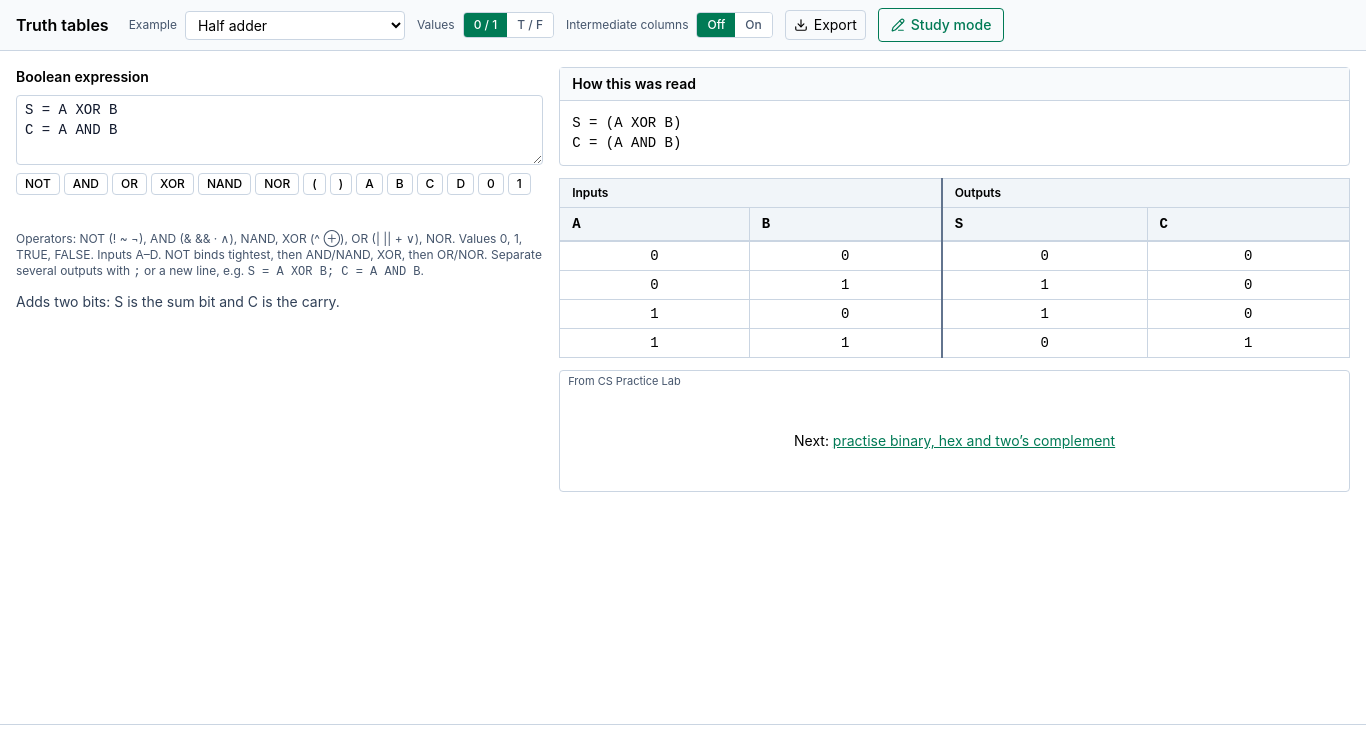
Truth Table Study Mode › grades a right and a wrong answer, and the feedback never contains the answer
The width and height of the screenshot is (1366, 753).
Click the button "Study mode" at (941, 25), box x1=878 y1=8 x2=1004 y2=42
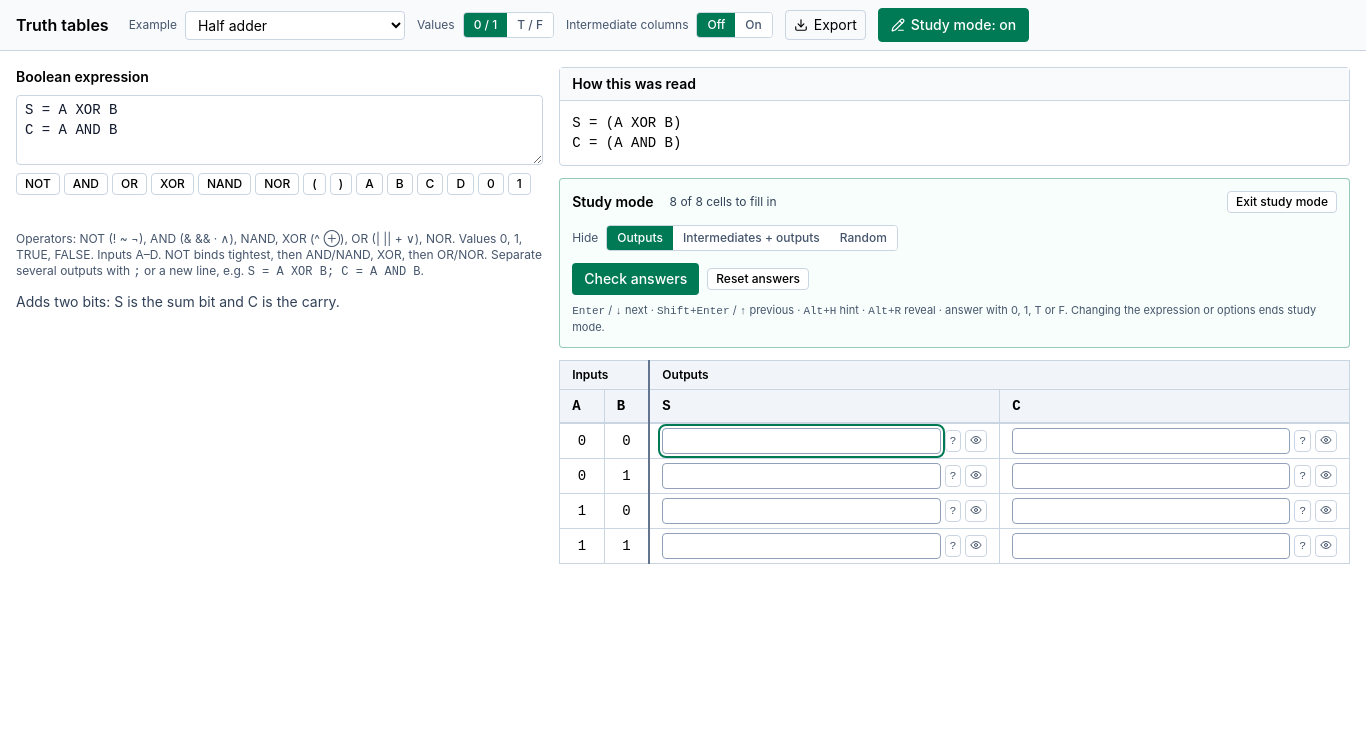
Now the number of fields named "Row 1, S" is 8
Type "0" into the field named "Row 1, S" at (801, 441), box x1=662 y1=428 x2=941 y2=454
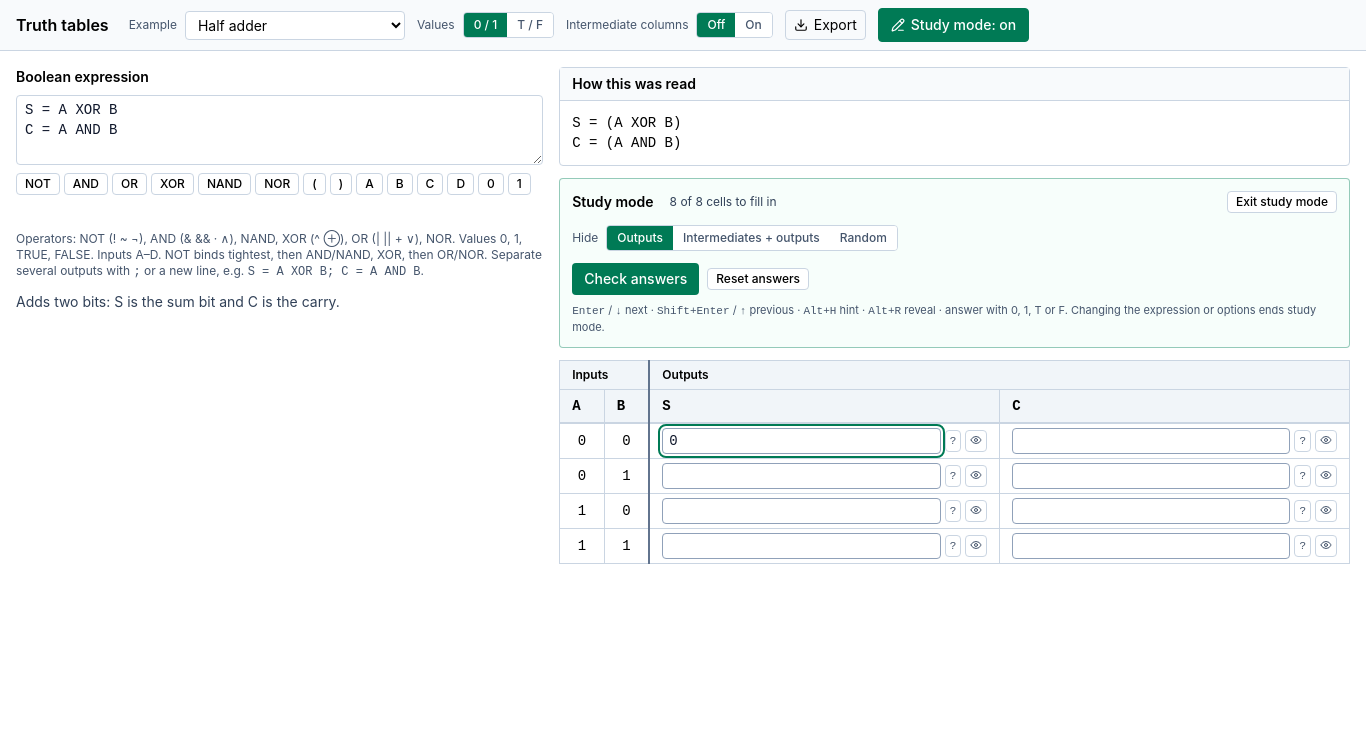
Type "0" into the field named "Row 2, S" at (801, 476), box x1=662 y1=463 x2=941 y2=489
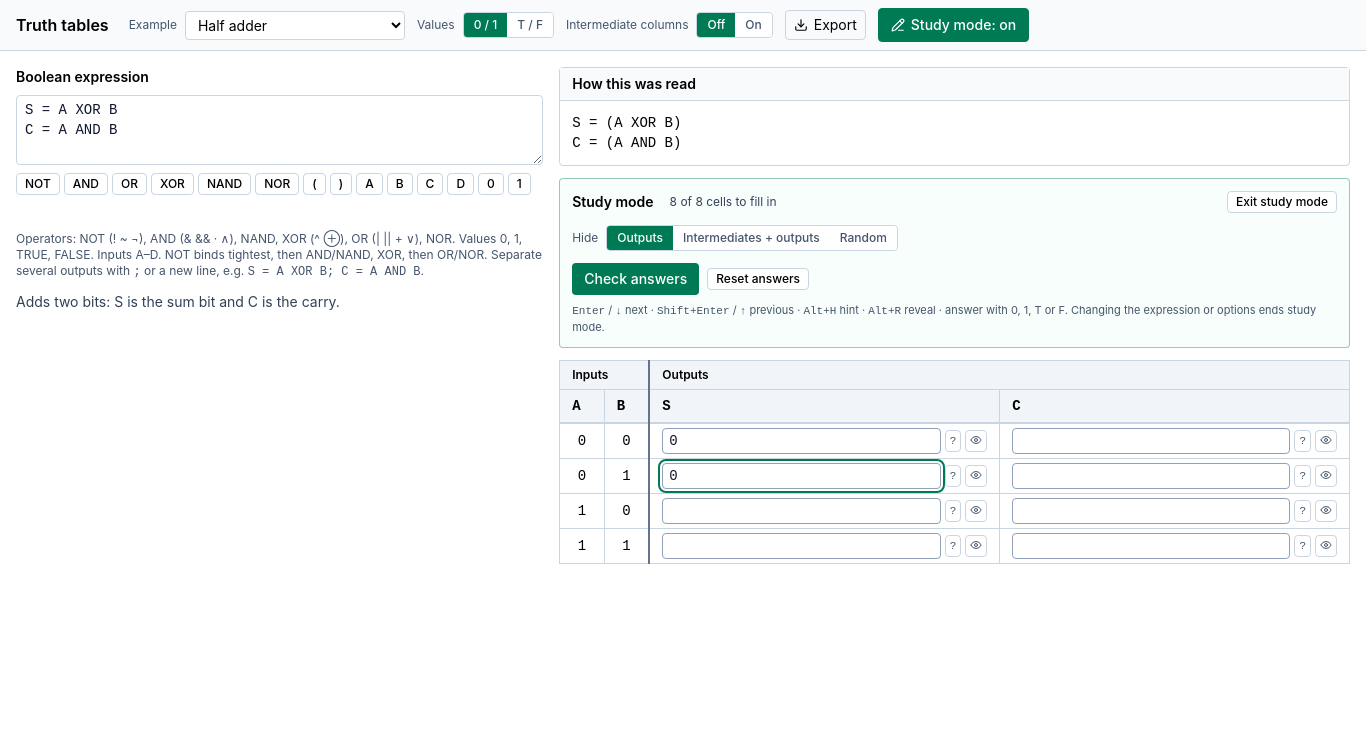
Click the button "Check answers" at (636, 279), box x1=572 y1=263 x2=699 y2=295
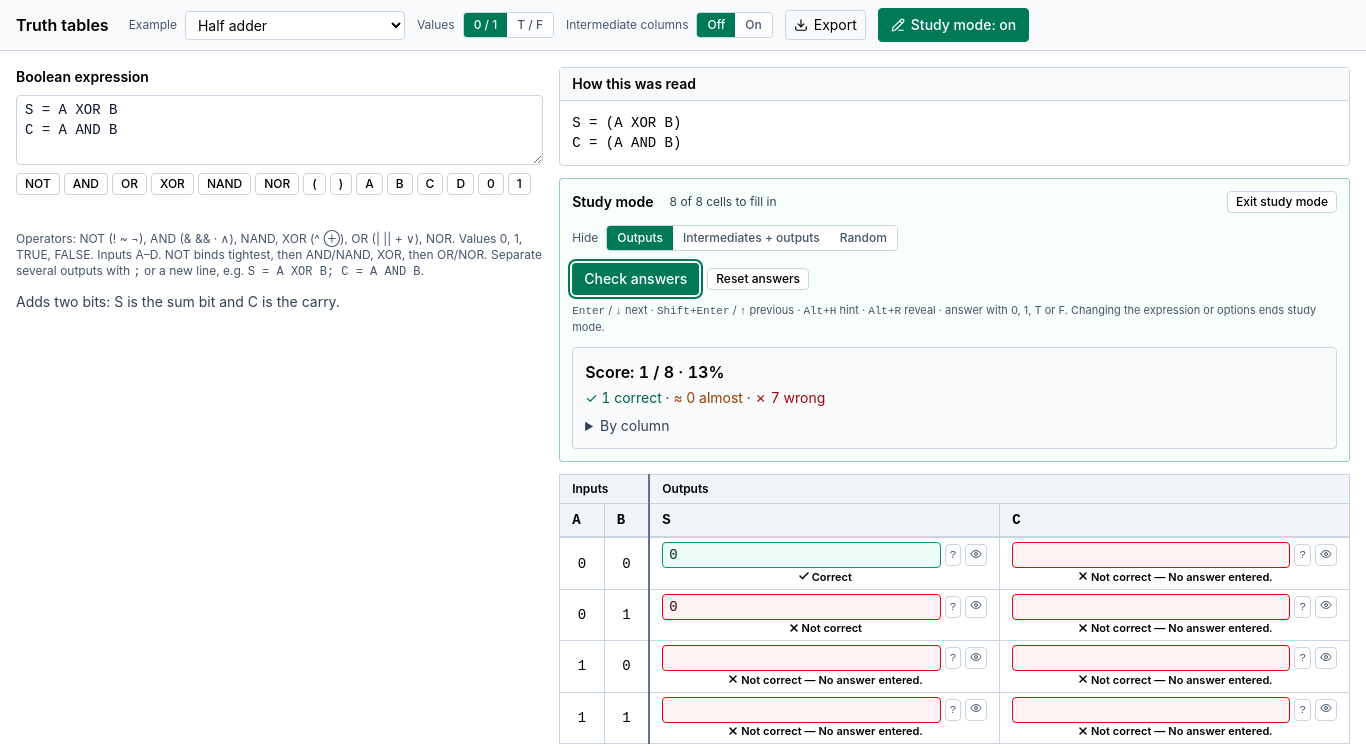
Now the element showing "Not correct" is shown, box x1=788 y1=621 x2=862 y2=635
Now the text "Score: 1 / 8 · 13%" is shown, box x1=585 y1=362 x2=725 y2=382
